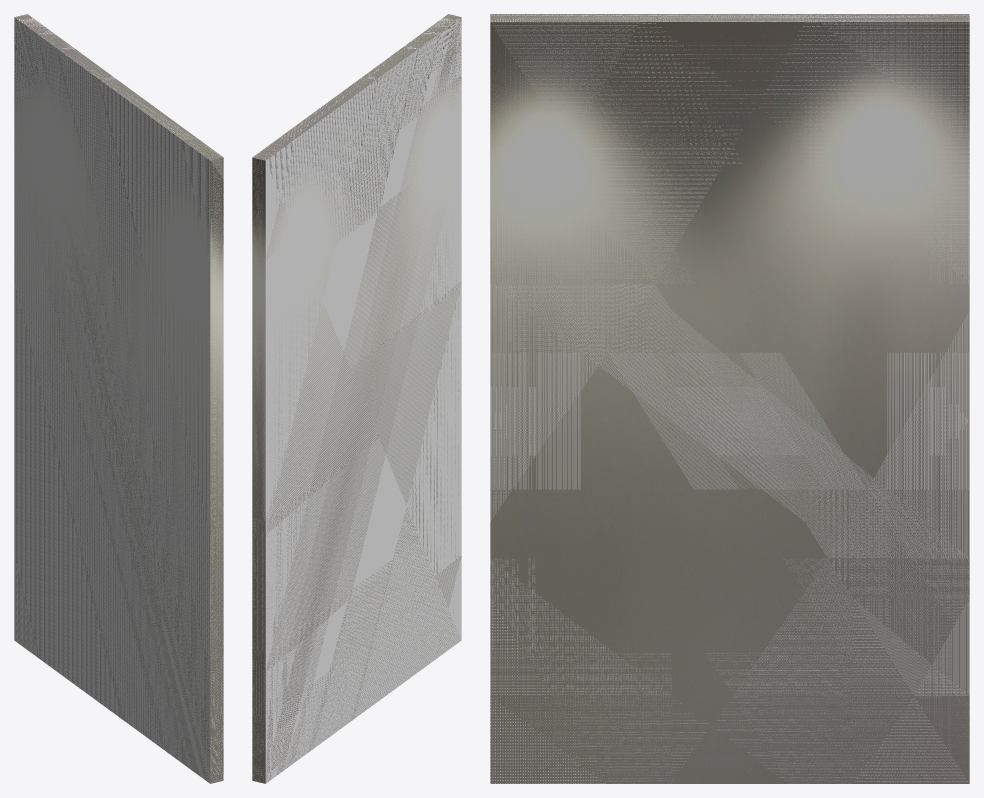
File: sliding_door.dae
3 renders of one model, left to right at view 1: azimuth 30°, elevation 25°; view 2: azimuth 150°, elevation 25°; view 3: azimuth 270°, elevation 25°, orthographic. The views are drawn at different scales.
Visible parts, largest first — view 1: SketchUp; view 2: SketchUp; view 3: SketchUp.
Part boxes in pixels (x1,y1,x2,y2): SketchUp: [14, 14, 223, 783]; SketchUp: [252, 14, 461, 783]; SketchUp: [490, 14, 969, 783].
Size of the model in its own units: 0.0603 by 1.54 by 2.7.
Materials: 3 (2 with a texture image).
